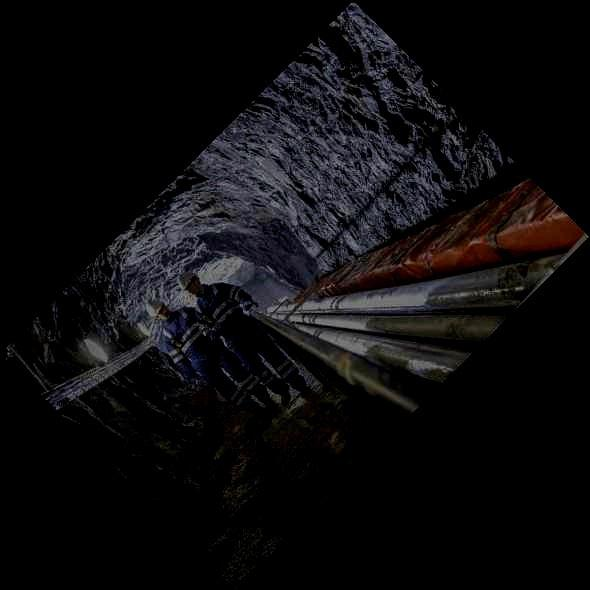helmet: (177, 271, 201, 295), (146, 300, 169, 322)
